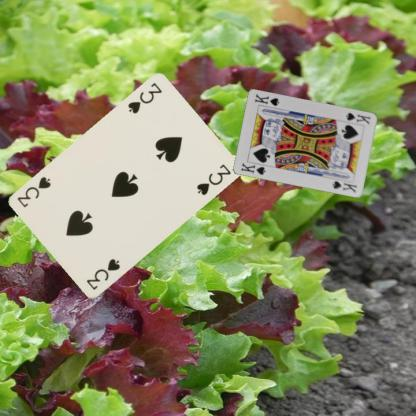3s: (125, 80, 163, 116), (84, 256, 121, 292)
Ks: (343, 110, 372, 126), (239, 160, 267, 176)
